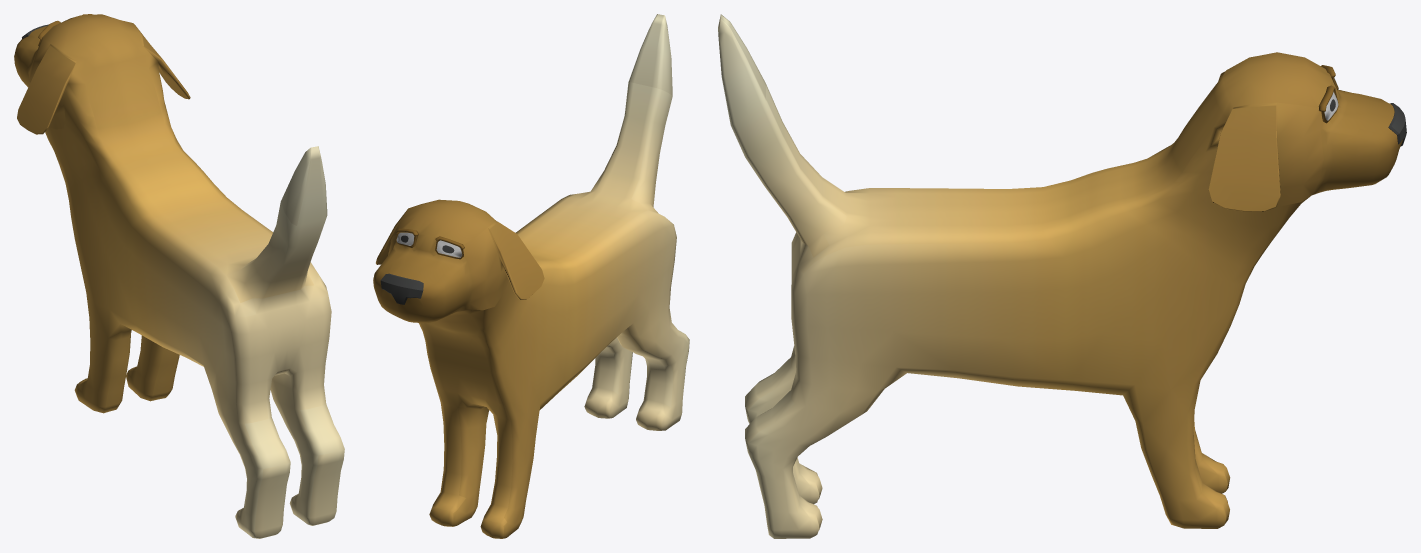
The model's file is dog.fbx.
3 views of the same model, side by side, from view 1: azimuth 30°, elevation 25°; view 2: azimuth 150°, elevation 25°; view 3: azimuth 270°, elevation 25° (orthographic). The views are drawn at different scales.
Parts seen in each view (by area): view 1: dog; view 2: dog; view 3: dog.
Part boxes in pixels (bbox=[...]): dog: bbox=[14, 14, 344, 538]; dog: bbox=[373, 14, 689, 538]; dog: bbox=[718, 14, 1406, 538].
Size of the model in its own units: 0.9812 by 2.43 by 3.03.
1 material, 1 textured.
